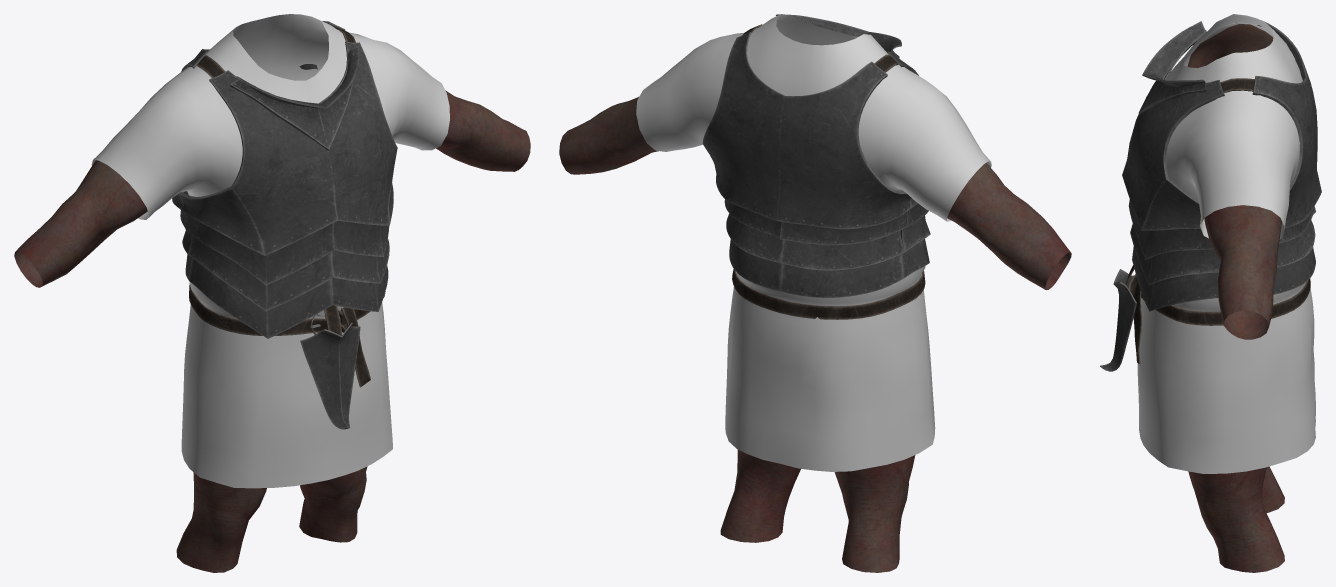
File: sk_uruk_hai_plate_elite_b1.fbx
3 views of the same model, side by side, from view 1: azimuth 30°, elevation 25°; view 2: azimuth 150°, elevation 25°; view 3: azimuth 270°, elevation 25° (orthographic). The views are drawn at different scales.
Visible parts, largest first — view 1: sk_uruk_hai_plate_elite_b1.2, sk_uruk_hai_plate_elite_b1.1, sk_uruk_hai_plate_elite_b1.body.1, sk_uruk_hai_plate_elite_b1.body.0, sk_uruk_hai_plate_elite_b1.0; view 2: sk_uruk_hai_plate_elite_b1.2, sk_uruk_hai_plate_elite_b1.1, sk_uruk_hai_plate_elite_b1.body.1, sk_uruk_hai_plate_elite_b1.body.0, sk_uruk_hai_plate_elite_b1.0; view 3: sk_uruk_hai_plate_elite_b1.2, sk_uruk_hai_plate_elite_b1.1, sk_uruk_hai_plate_elite_b1.body.1, sk_uruk_hai_plate_elite_b1.body.0, sk_uruk_hai_plate_elite_b1.0.
Boxes of the visible parts, bbox=[...] form: sk_uruk_hai_plate_elite_b1.2: bbox=[91, 14, 449, 488]; sk_uruk_hai_plate_elite_b1.1: bbox=[172, 21, 397, 429]; sk_uruk_hai_plate_elite_b1.body.1: bbox=[14, 90, 530, 287]; sk_uruk_hai_plate_elite_b1.body.0: bbox=[176, 466, 367, 572]; sk_uruk_hai_plate_elite_b1.0: bbox=[189, 24, 385, 387]; sk_uruk_hai_plate_elite_b1.2: bbox=[636, 14, 991, 471]; sk_uruk_hai_plate_elite_b1.1: bbox=[702, 14, 930, 297]; sk_uruk_hai_plate_elite_b1.body.1: bbox=[559, 97, 1071, 290]; sk_uruk_hai_plate_elite_b1.body.0: bbox=[720, 449, 915, 572]; sk_uruk_hai_plate_elite_b1.0: bbox=[732, 24, 925, 319]; sk_uruk_hai_plate_elite_b1.2: bbox=[1137, 14, 1315, 473]; sk_uruk_hai_plate_elite_b1.1: bbox=[1100, 20, 1321, 371]; sk_uruk_hai_plate_elite_b1.body.1: bbox=[1187, 24, 1282, 339]; sk_uruk_hai_plate_elite_b1.body.0: bbox=[1188, 466, 1284, 572]; sk_uruk_hai_plate_elite_b1.0: bbox=[1125, 22, 1310, 363].
Size of the model in its own units: 1.2 by 0.4777 by 1.19.
